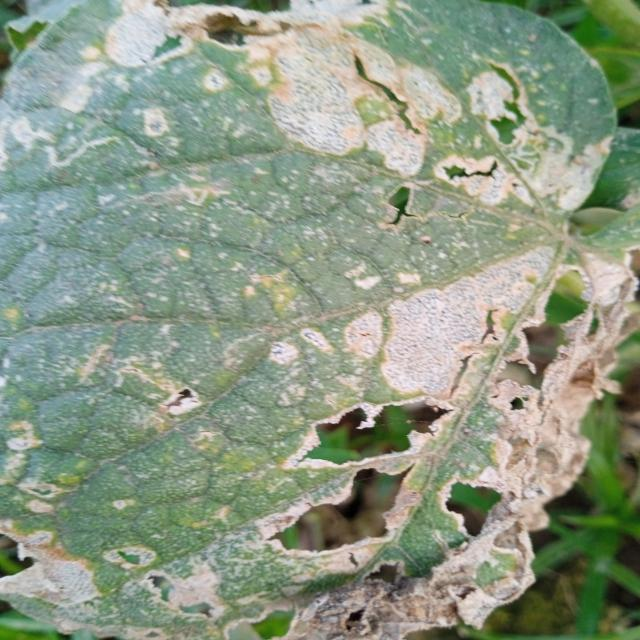cucumber_anthracnose: (7, 13, 617, 617)
